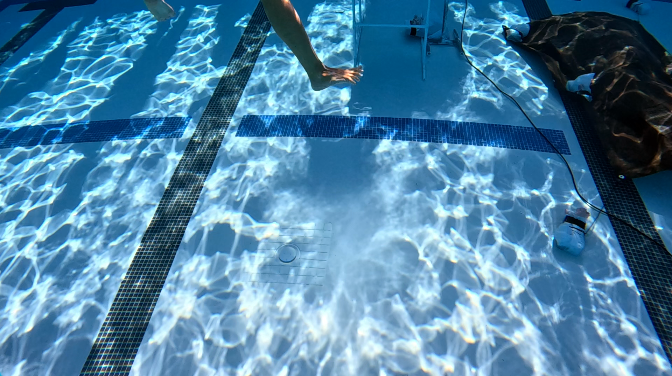sandbag: (505, 14, 671, 178)
